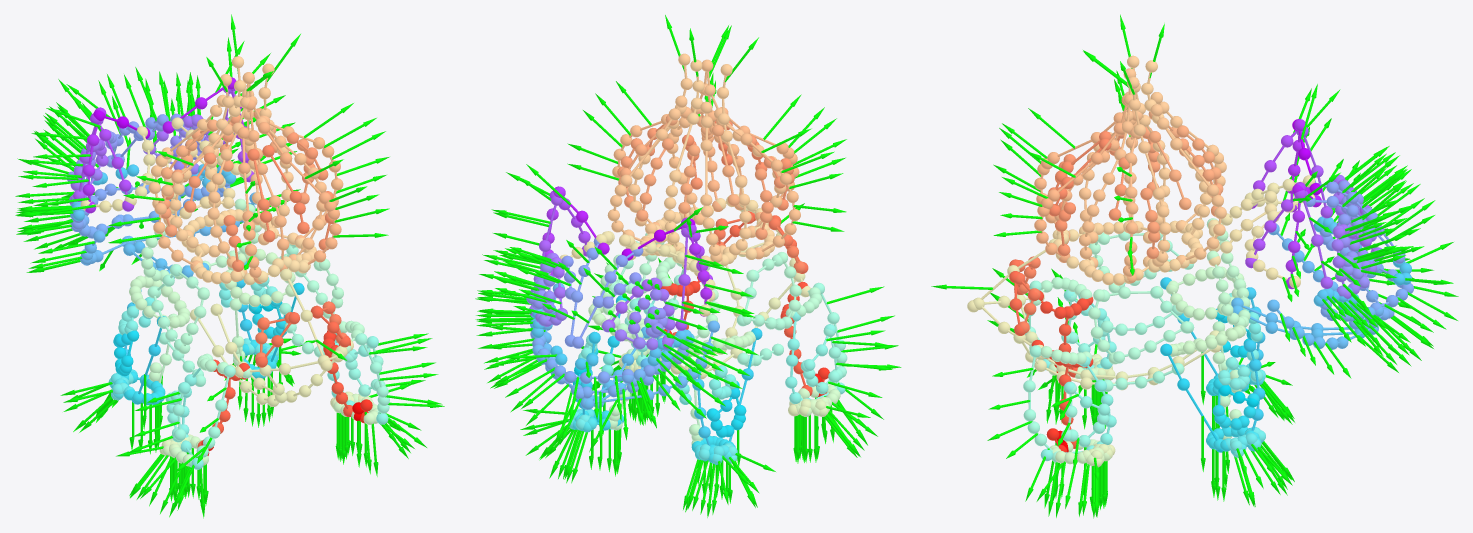
The model's file is author1_bulbasaur.gltf.
3 views of the same model, side by side, from view 1: azimuth 30°, elevation 25°; view 2: azimuth 150°, elevation 25°; view 3: azimuth 270°, elevation 25° (orthographic).
Size of the model in its own units: 0.5669 by 0.7913 by 0.8449.
